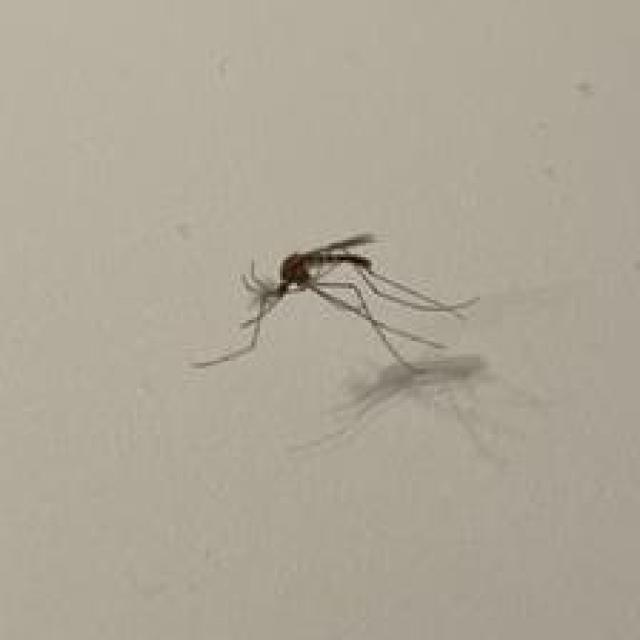Culex: (191, 232, 480, 377)
